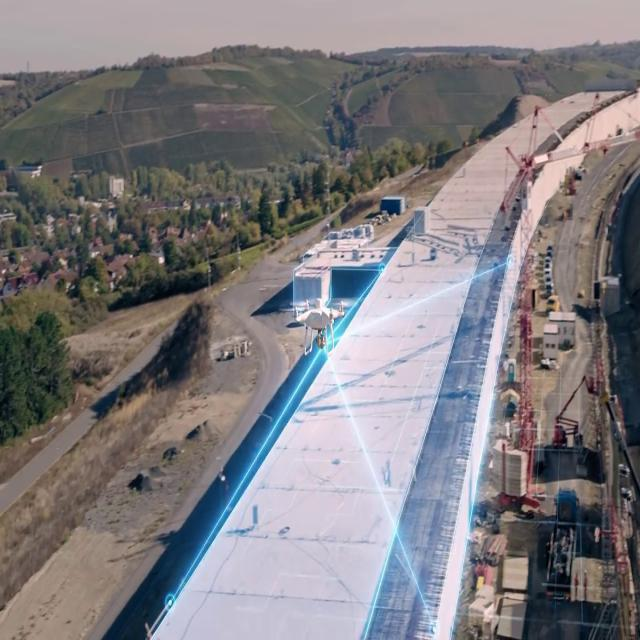drone: (285, 295, 357, 357)
